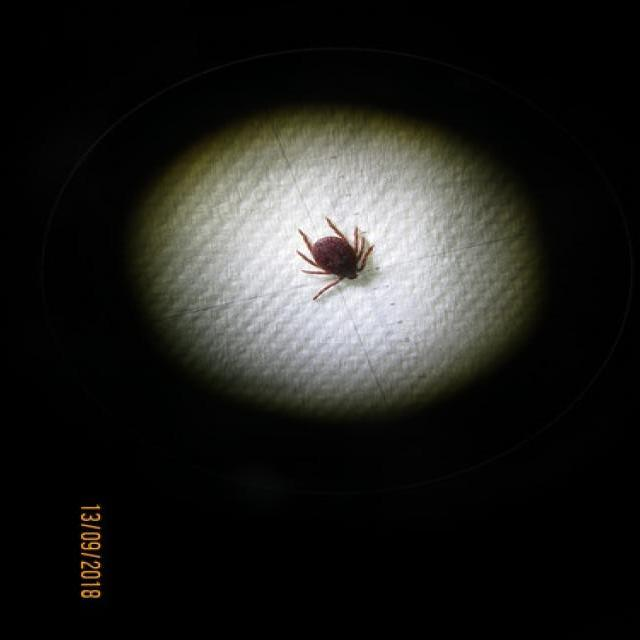Dermacentor Reticulatus-M: (295, 216, 374, 302)
